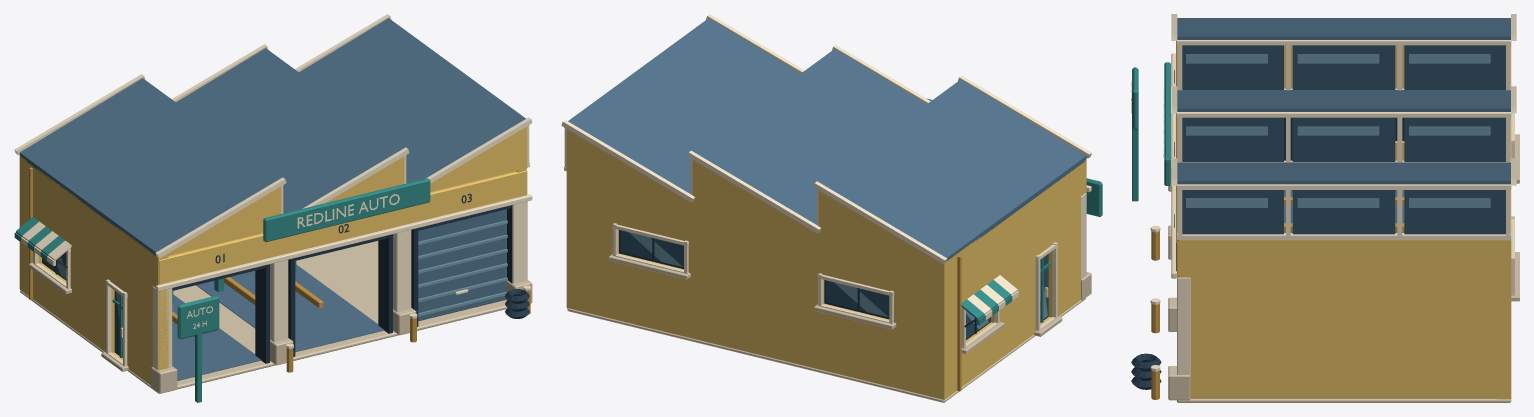
The model's file is redline_garage.glb.
3 renders of one model, left to right at view 1: azimuth 30°, elevation 25°; view 2: azimuth 150°, elevation 25°; view 3: azimuth 270°, elevation 25°, orthographic. The views are drawn at different scales.
Parts seen in each view (by area): view 1: RedlineGarage_StaticMesh; view 2: RedlineGarage_StaticMesh; view 3: RedlineGarage_StaticMesh.
Boxes of the visible parts, bbox=[...] form: RedlineGarage_StaticMesh: bbox=[14, 14, 532, 402]; RedlineGarage_StaticMesh: bbox=[561, 14, 1102, 402]; RedlineGarage_StaticMesh: bbox=[1131, 14, 1519, 402].
Bounding box in the file's own units: 14.63 × 6.68 × 10.47.
